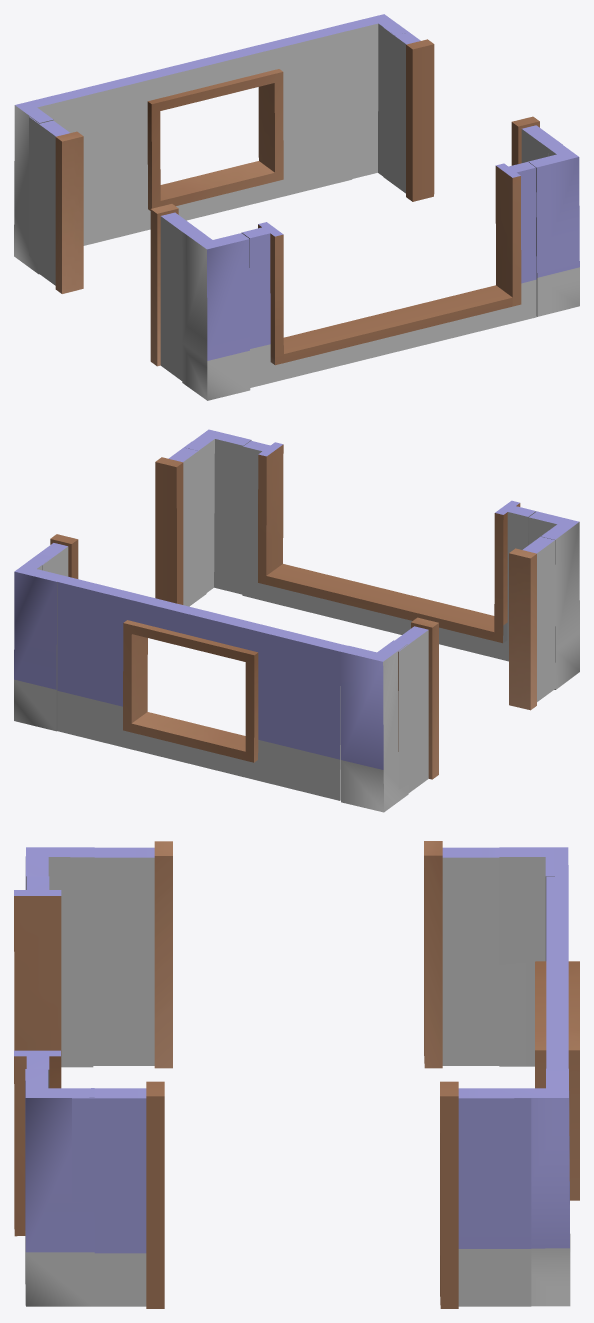
The model's file is ENTRADA.fbx.
3 views of the same model, one above another, from view 1: azimuth 30°, elevation 25°; view 2: azimuth 150°, elevation 25°; view 3: azimuth 270°, elevation 25° (orthographic). The views are drawn at different scales.
Parts seen in each view (by area): view 1: paret_ventana10, paret_con_ventana_grande29, paret_esquina_99, paret_doblepuerta4, paret_con_borde17, paret_esquina45, paret_con_borde19, paret_esquina43, paret_esquina_98; view 2: paret_ventana10, paret_con_ventana_grande29, paret_esquina_98, paret_doblepuerta4, paret_con_borde19, paret_esquina43, paret_con_borde17, paret_esquina45, paret_esquina_99; view 3: paret_doblepuerta4, paret_con_borde19, paret_con_borde17, paret_esquina45, paret_con_ventana_grande29, paret_esquina43, paret_ventana10, paret_esquina_98, paret_esquina_99.
Boxes of the visible parts, x1=… form: paret_ventana10: x1=58, y1=24, x2=352, y2=245; paret_con_ventana_grande29: x1=241, y1=162, x2=536, y2=387; paret_esquina_99: x1=182, y1=228, x2=250, y2=400; paret_doblepuerta4: x1=383, y1=27, x2=562, y2=201; paret_con_borde17: x1=29, y1=116, x2=83, y2=293; paret_esquina45: x1=528, y1=139, x2=579, y2=316; paret_con_borde19: x1=150, y1=204, x2=202, y2=387; paret_esquina43: x1=344, y1=14, x2=408, y2=178; paret_esquina_98: x1=14, y1=94, x2=65, y2=274; paret_ventana10: x1=55, y1=575, x2=347, y2=800; paret_con_ventana_grande29: x1=242, y1=440, x2=536, y2=661; paret_esquina_98: x1=340, y1=640, x2=408, y2=812; paret_doblepuerta4: x1=39, y1=441, x2=206, y2=606; paret_con_borde19: x1=509, y1=533, x2=555, y2=710; paret_esquina43: x1=14, y1=553, x2=62, y2=731; paret_con_borde17: x1=395, y1=617, x2=438, y2=792; paret_esquina45: x1=184, y1=429, x2=251, y2=594; paret_esquina_99: x1=528, y1=511, x2=579, y2=689; paret_doblepuerta4: x1=72, y1=1081, x2=531, y2=1308; paret_con_borde19: x1=70, y1=841, x2=172, y2=1068; paret_con_borde17: x1=424, y1=841, x2=526, y2=1068; paret_esquina45: x1=25, y1=1069, x2=94, y2=1306; paret_con_ventana_grande29: x1=14, y1=876, x2=61, y2=1236; paret_esquina43: x1=500, y1=1069, x2=570, y2=1306; paret_ventana10: x1=535, y1=876, x2=579, y2=1200; paret_esquina_98: x1=499, y1=847, x2=568, y2=1066; paret_esquina_99: x1=25, y1=847, x2=94, y2=1067.
Size of the model in its own units: 878 by 345 by 814.
